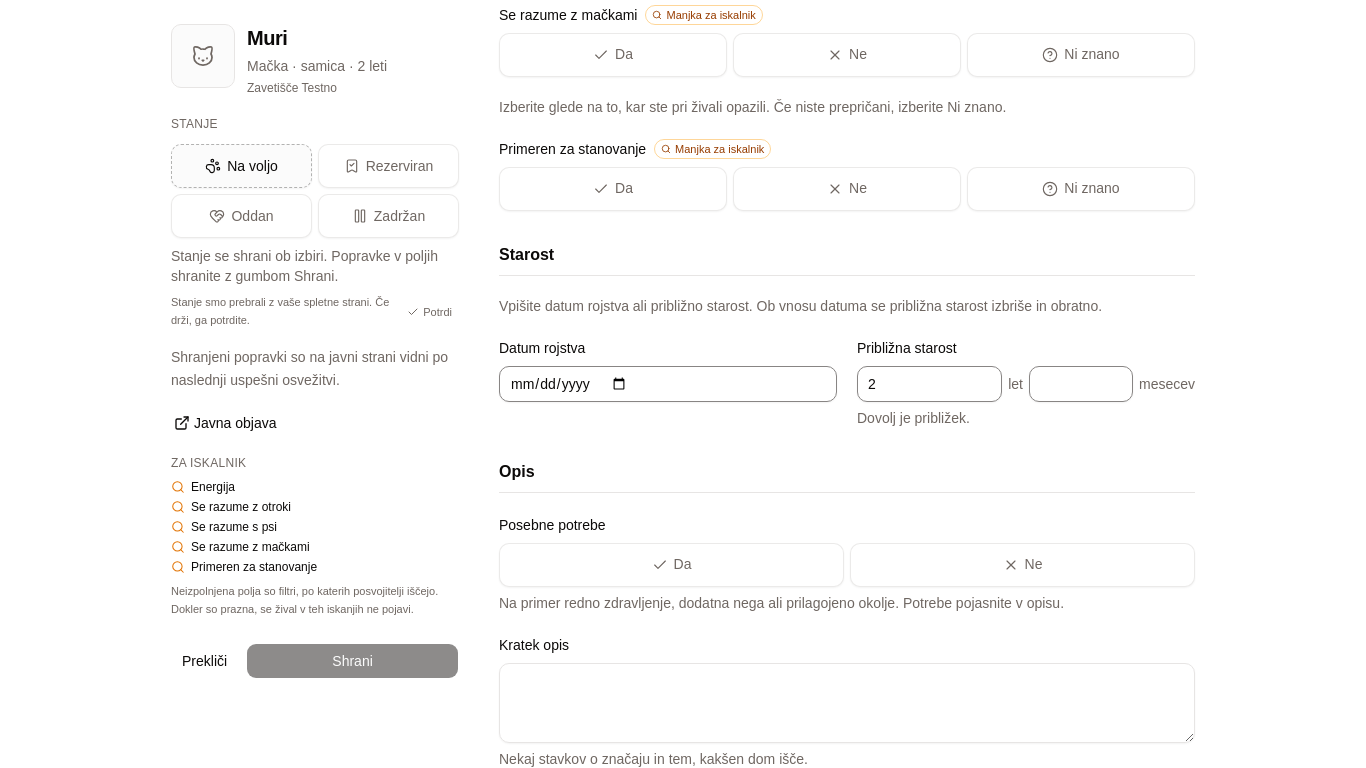
it: what a field tells a screen reader › names the error message from the age box that carries the fault
The image size is (1366, 768).
(page scrolled)
Replace the text in the number field labelled "let" with "1.5" at coordinates (930, 384), box [857,366,1002,402]
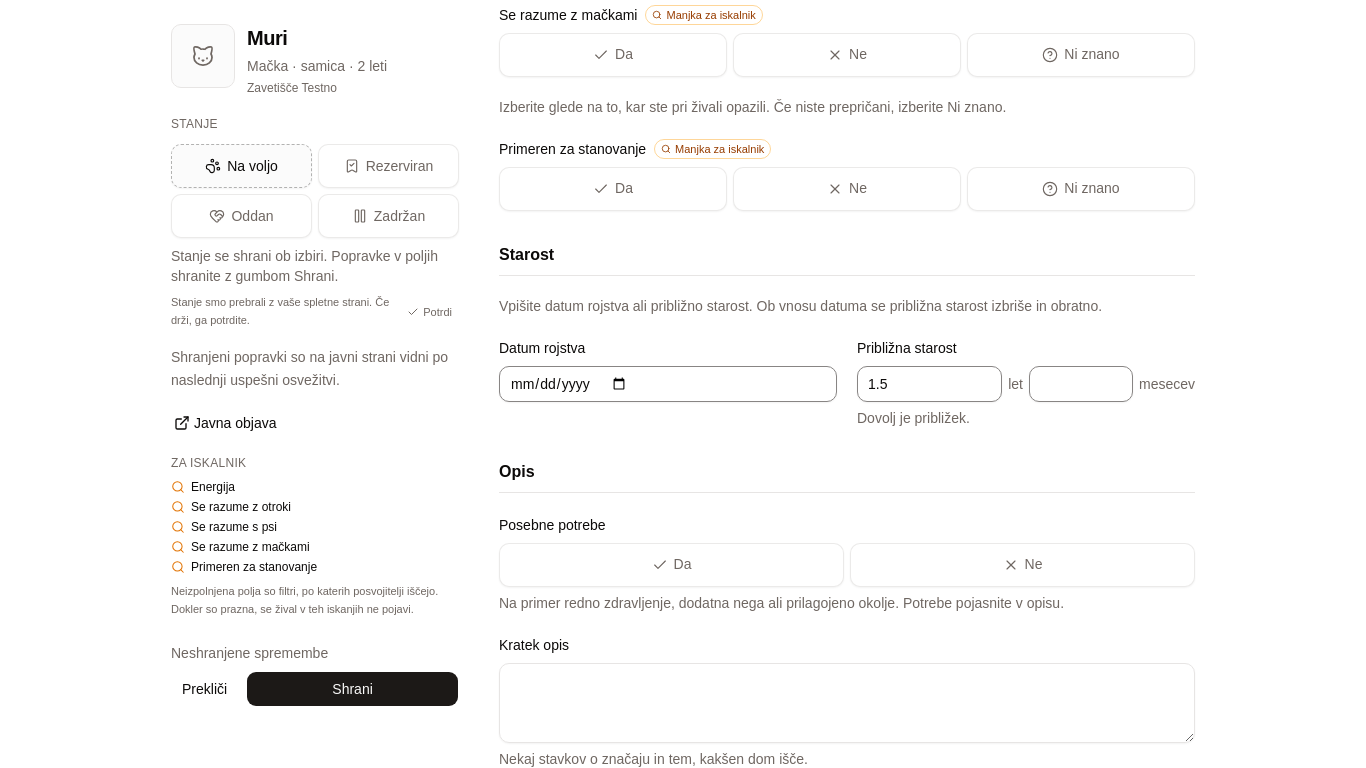
Click the button "Shrani".
click(353, 689)  # box [246,671,459,707]
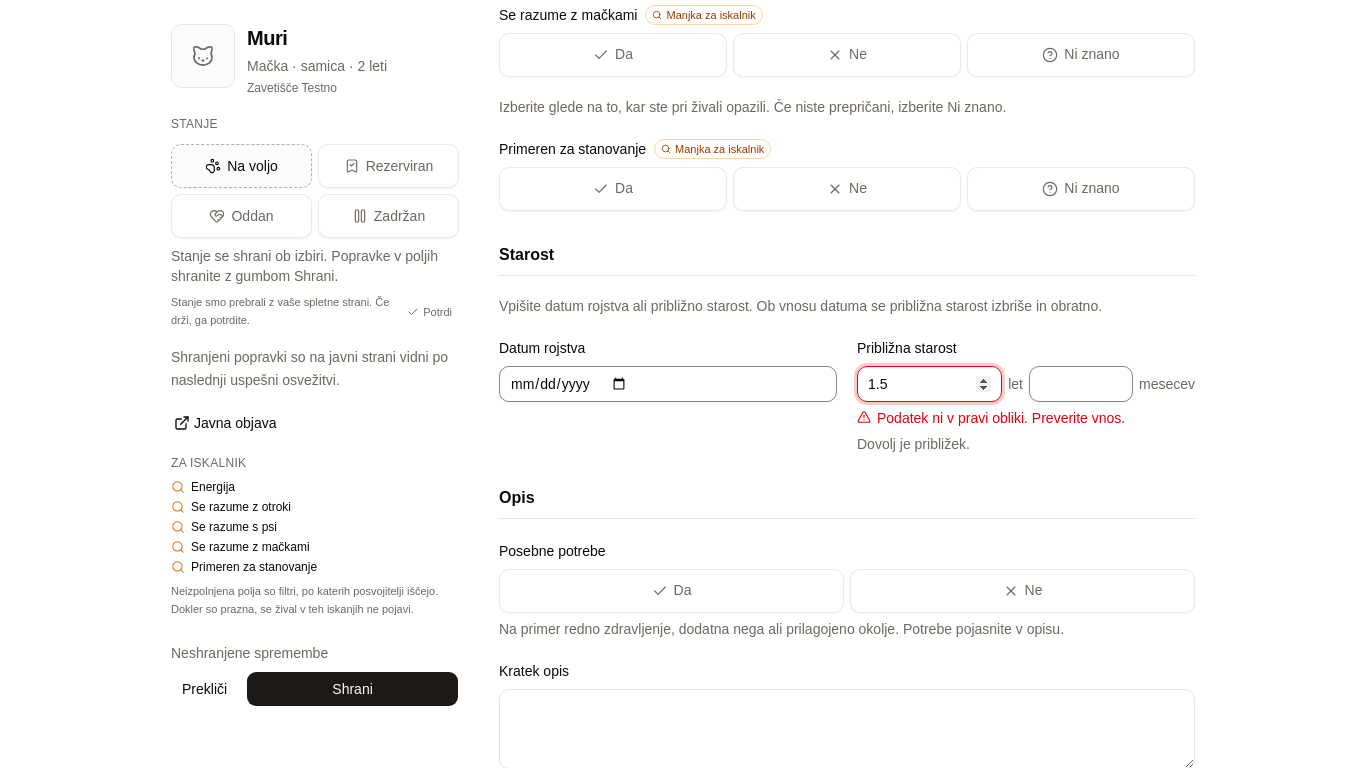
Result: the message "Podatek ni v pravi obliki. Preverite vnos." is shown at [857,410,1125,426]
